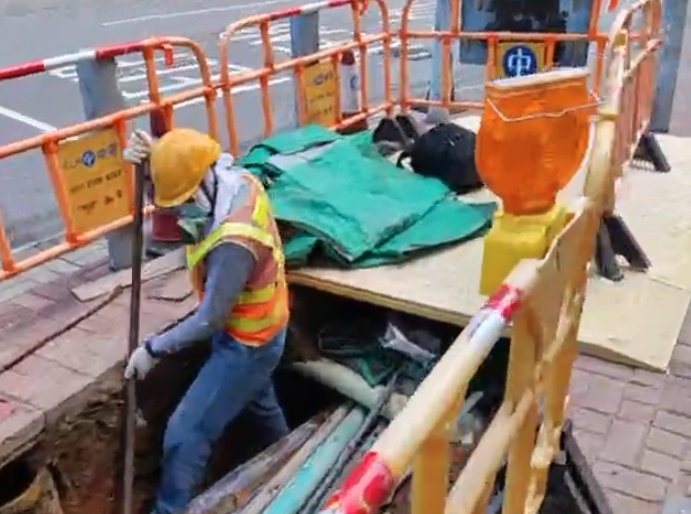Hard Hat: (150, 128, 226, 216)
Person: (134, 127, 289, 509)
Vest: (194, 174, 293, 349)
